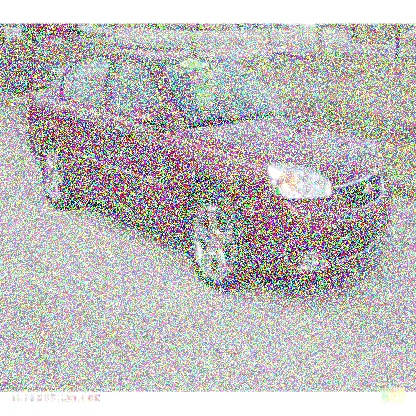Vehicle: (24, 45, 396, 297)
